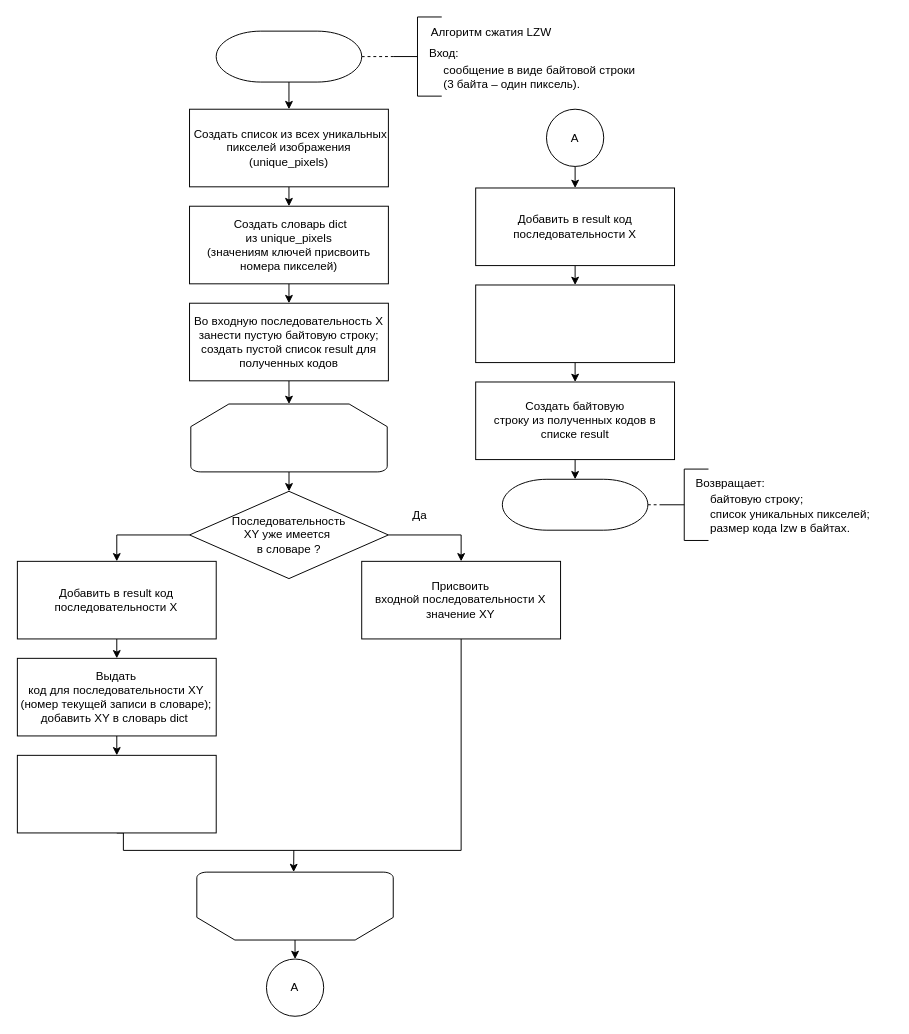
This 909x1034 diagram has some shape labels left out. Each missing label, with the centre of its shape:
"Вычислить количество байт, необходимых для хранения каждого кода LZW" belongs at (x=575, y=323).
"Конец" belongs at (x=574, y=504).
"Конец цикла по всем пикселям изображения" belongs at (x=294, y=905).
"Начало" belongs at (x=288, y=56).
"Присвоить входной последовательности X значение Y" belongs at (x=116, y=793).
"Цикл по всем пикселям изображения (Y – очередной пиксель)" belongs at (x=288, y=437).
